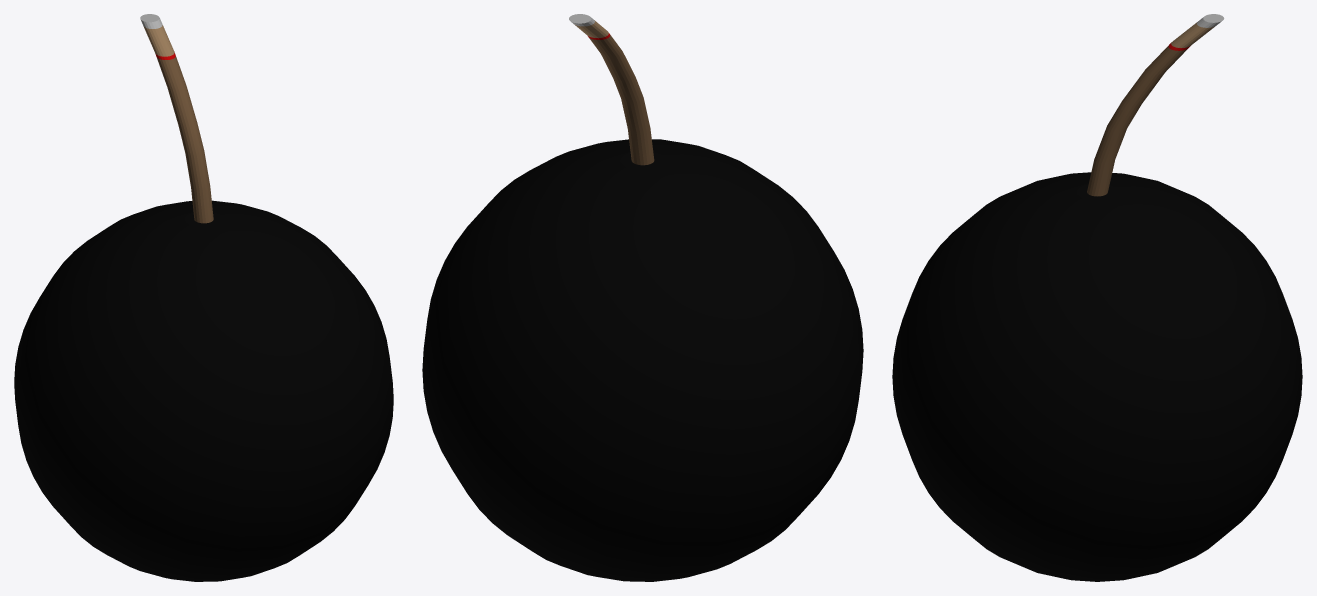
Rendered from Bomb.fbx.
3 views of the same model, side by side, from view 1: azimuth 30°, elevation 25°; view 2: azimuth 150°, elevation 25°; view 3: azimuth 270°, elevation 25° (orthographic). The views are drawn at different scales.
Visible parts, largest first — view 1: pSphere1; view 2: pSphere1; view 3: pSphere1.
Part boxes in pixels (box(x1,y1,x2,y2)): pSphere1: box(14, 14, 393, 581); pSphere1: box(422, 14, 863, 581); pSphere1: box(892, 14, 1302, 581).
Size of the model in its own units: 5.58 by 8.17 by 5.58.
